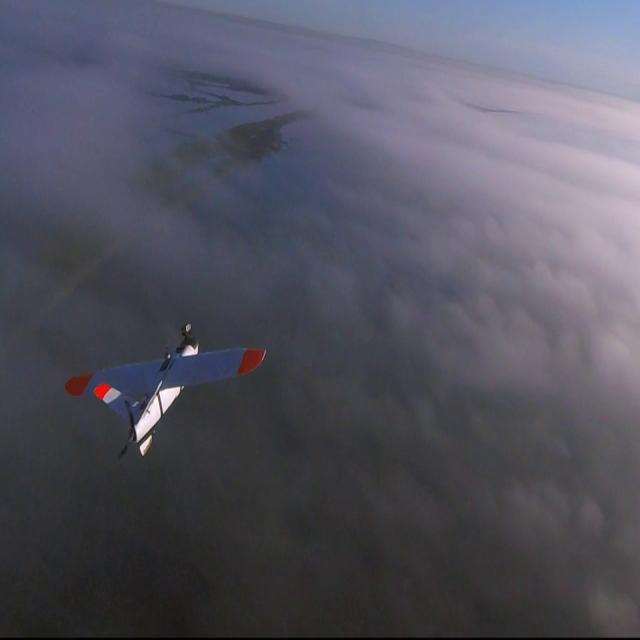iha: (56, 321, 273, 450)
